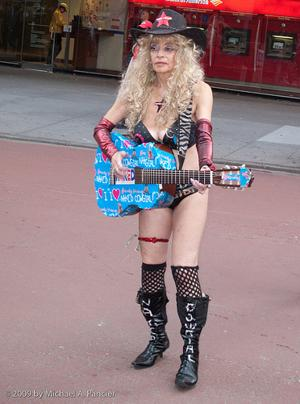person: (94, 9, 215, 389)
